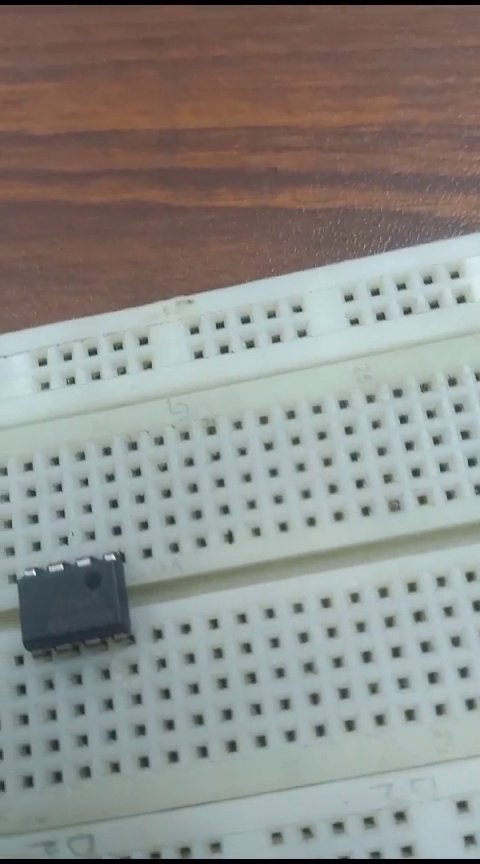IC: (18, 557, 144, 649)
